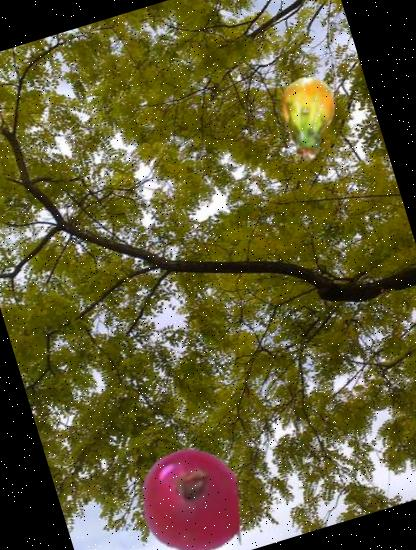Cactus: (256, 64, 366, 173)
Redcurrant: (126, 435, 257, 550)
